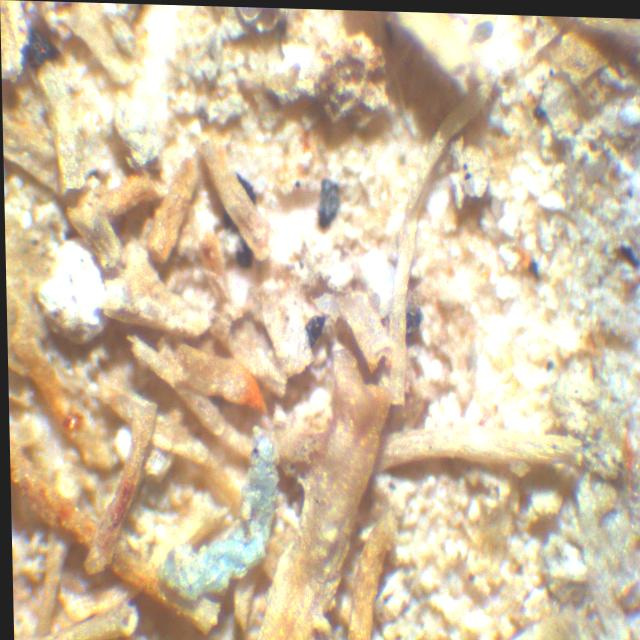microplastic: (158, 425, 276, 602)
